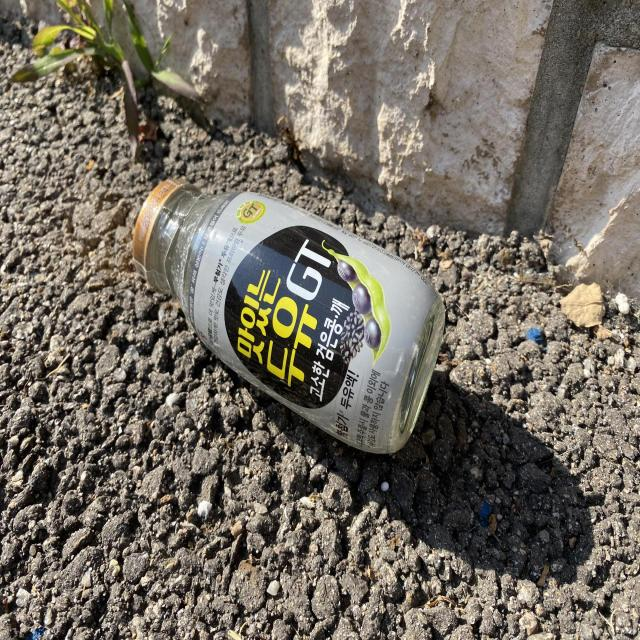glass: (132, 179, 445, 454)
